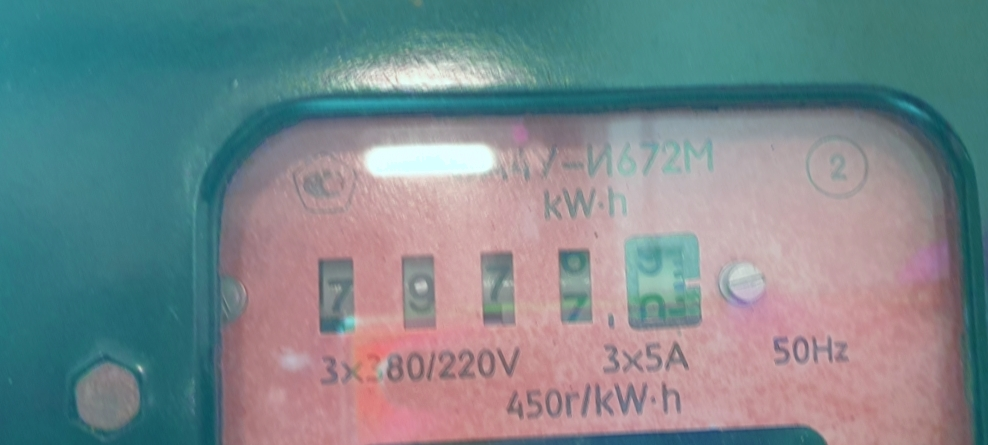0: (632, 286, 667, 327)
7: (478, 259, 512, 304), (320, 273, 353, 317), (557, 288, 589, 325)
9: (399, 268, 436, 315), (630, 239, 663, 276)
screen: (291, 210, 727, 372)
